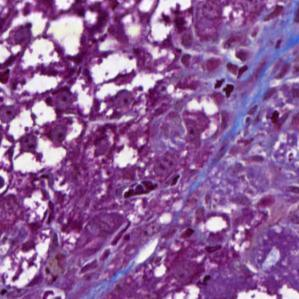inflammation: (7, 102, 82, 180)
